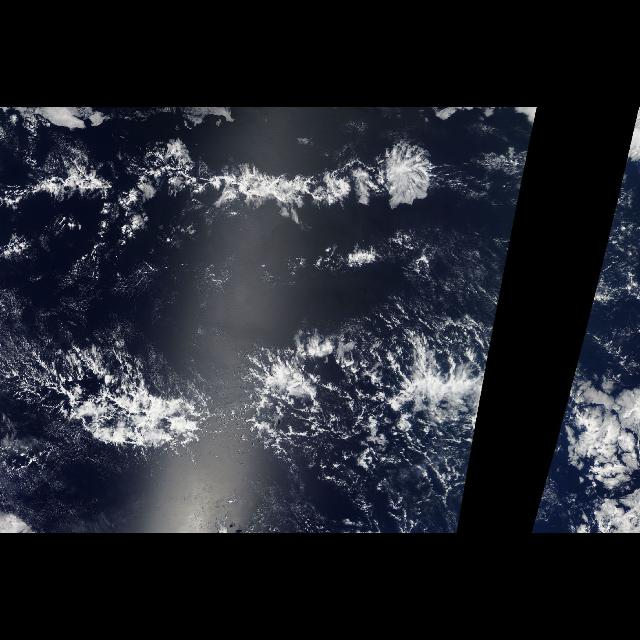Fish: (9, 322, 487, 463)
